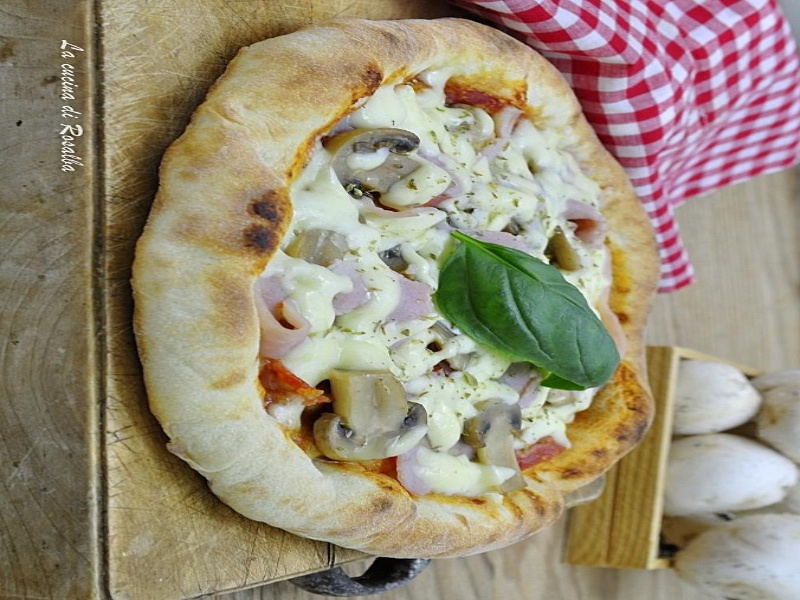champignon: (308, 361, 431, 470), (323, 125, 455, 208), (459, 390, 534, 499)
